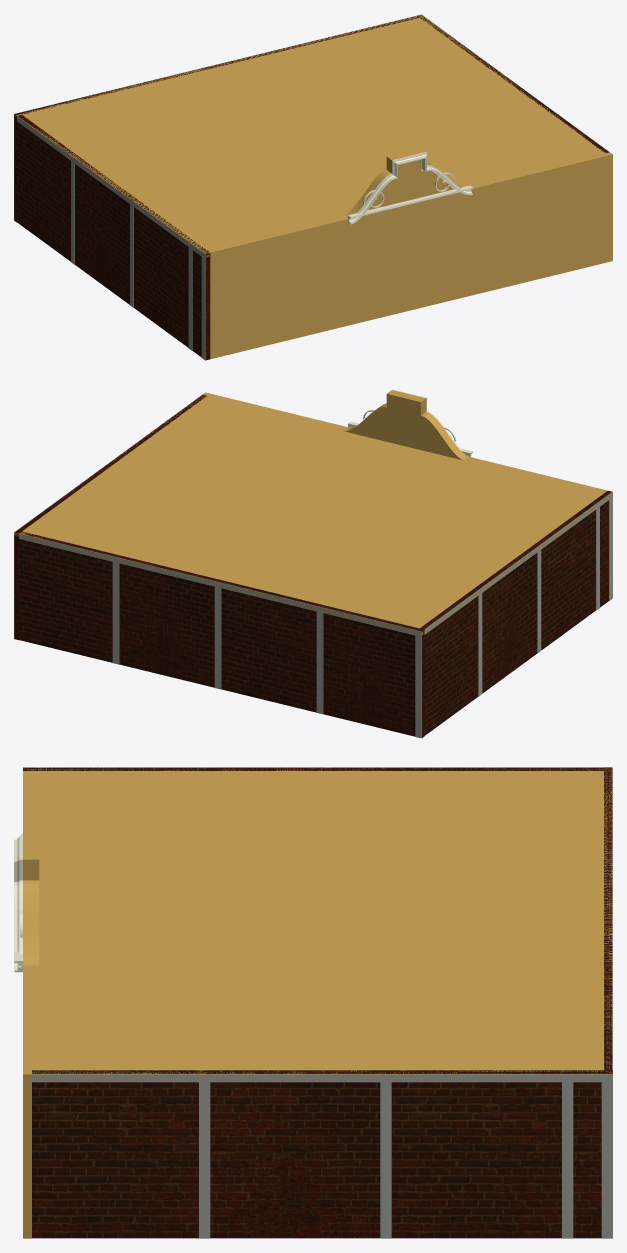
The model's file is building.glb.
The picture shows the model from 3 angles, top to bottom: view 1: azimuth 30°, elevation 25°; view 2: azimuth 150°, elevation 25°; view 3: azimuth 270°, elevation 25°; orthographic projection. The views are drawn at different scales.
Visible parts, largest first — view 1: roof/house:0/roof_slab#0001, house:0/edge0/z0/house:0/edge0/z0/wall_0_0, house:0/edge3/z0/house:0/edge3/z0/wall_0_0, crown/coronamiento/crown_body#0001, house:0/edge2/z0/house:0/edge2/z0/wall_0_0, house:0/edge3/z0/house:0/edge3/z0/beam_0_0, crown/coronamiento/crown_moulding#0001, house:0/edge1/z0/house:0/edge1/z0/wall_0_0, crown/coronamiento/crown_base_cornice#0001, house:0/edge3/z0/house:0/edge3/z0/column_1_0, house:0/edge3/z0/house:0/edge3/z0/column_4_0; view 2: roof/house:0/roof_slab#0001, house:0/edge2/z0/house:0/edge2/z0/wall_0_0, house:0/edge3/z0/house:0/edge3/z0/wall_0_0, crown/coronamiento/crown_body#0001, house:0/edge2/z0/house:0/edge2/z0/beam_0_0, house:0/edge1/z0/house:0/edge1/z0/wall_0_0, house:0/edge3/z0/house:0/edge3/z0/beam_0_0, house:0/edge0/z0/house:0/edge0/z0/wall_0_0, house:0/edge2/z0/house:0/edge2/z0/column_2_0, house:0/edge2/z0/house:0/edge2/z0/column_3_0, house:0/edge2/z0/house:0/edge2/z0/column_4_0, house:0/edge2/z0/house:0/edge2/z0/column_1_0 (+2 smaller); view 3: roof/house:0/roof_slab#0001, house:0/edge1/z0/house:0/edge1/z0/wall_0_0, house:0/edge1/z0/house:0/edge1/z0/beam_0_0, house:0/edge0/z0/house:0/edge0/z0/wall_0_0, house:0/edge2/z0/house:0/edge2/z0/wall_0_0, house:0/edge3/z0/house:0/edge3/z0/wall_0_0, crown/coronamiento/crown_body#0001, house:0/edge1/z0/house:0/edge1/z0/column_1_0, house:0/edge1/z0/house:0/edge1/z0/column_2_0, house:0/edge1/z0/house:0/edge1/z0/column_3_0, house:0/edge1/z0/house:0/edge1/z0/column_4_0, crown/coronamiento/crown_moulding#0001.
Part boxes in pixels (left/top/right/bottom): roof/house:0/roof_slab#0001: left=14, top=14, right=612, bottom=257; house:0/edge0/z0/house:0/edge0/z0/wall_0_0: left=208, top=152, right=612, bottom=359; house:0/edge3/z0/house:0/edge3/z0/wall_0_0: left=17, top=115, right=210, bottom=360; crown/coronamiento/crown_body#0001: left=343, top=148, right=465, bottom=218; house:0/edge2/z0/house:0/edge2/z0/wall_0_0: left=14, top=16, right=418, bottom=222; house:0/edge3/z0/house:0/edge3/z0/beam_0_0: left=17, top=116, right=205, bottom=259; crown/coronamiento/crown_moulding#0001: left=348, top=152, right=472, bottom=224; house:0/edge1/z0/house:0/edge1/z0/wall_0_0: left=417, top=14, right=608, bottom=153; crown/coronamiento/crown_base_cornice#0001: left=348, top=185, right=473, bottom=219; house:0/edge3/z0/house:0/edge3/z0/column_1_0: left=201, top=257, right=205, bottom=360; house:0/edge3/z0/house:0/edge3/z0/column_4_0: left=188, top=247, right=192, bottom=350; roof/house:0/roof_slab#0001: left=14, top=393, right=612, bottom=635; house:0/edge2/z0/house:0/edge2/z0/wall_0_0: left=19, top=531, right=424, bottom=737; house:0/edge3/z0/house:0/edge3/z0/wall_0_0: left=420, top=490, right=612, bottom=735; crown/coronamiento/crown_body#0001: left=343, top=390, right=468, bottom=460; house:0/edge2/z0/house:0/edge2/z0/beam_0_0: left=19, top=533, right=421, bottom=636; house:0/edge1/z0/house:0/edge1/z0/wall_0_0: left=14, top=394, right=206, bottom=639; house:0/edge3/z0/house:0/edge3/z0/beam_0_0: left=424, top=492, right=612, bottom=634; house:0/edge0/z0/house:0/edge0/z0/wall_0_0: left=202, top=392, right=607, bottom=492; house:0/edge2/z0/house:0/edge2/z0/column_2_0: left=112, top=562, right=119, bottom=664; house:0/edge2/z0/house:0/edge2/z0/column_3_0: left=214, top=587, right=221, bottom=689; house:0/edge2/z0/house:0/edge2/z0/column_4_0: left=316, top=611, right=323, bottom=714; house:0/edge2/z0/house:0/edge2/z0/column_1_0: left=415, top=635, right=421, bottom=738; roof/house:0/roof_slab#0001: left=23, top=767, right=612, bottom=1079; house:0/edge1/z0/house:0/edge1/z0/wall_0_0: left=32, top=1070, right=612, bottom=1238; house:0/edge1/z0/house:0/edge1/z0/beam_0_0: left=32, top=1074, right=612, bottom=1082; house:0/edge0/z0/house:0/edge0/z0/wall_0_0: left=23, top=771, right=31, bottom=1238; house:0/edge2/z0/house:0/edge2/z0/wall_0_0: left=604, top=767, right=612, bottom=1070; house:0/edge3/z0/house:0/edge3/z0/wall_0_0: left=23, top=767, right=603, bottom=770; crown/coronamiento/crown_body#0001: left=25, top=833, right=39, bottom=966; house:0/edge1/z0/house:0/edge1/z0/column_1_0: left=601, top=1082, right=612, bottom=1238; house:0/edge1/z0/house:0/edge1/z0/column_2_0: left=199, top=1082, right=210, bottom=1238; house:0/edge1/z0/house:0/edge1/z0/column_3_0: left=380, top=1082, right=391, bottom=1238; house:0/edge1/z0/house:0/edge1/z0/column_4_0: left=562, top=1082, right=573, bottom=1238; crown/coronamiento/crown_moulding#0001: left=14, top=833, right=22, bottom=972.
Bounding box in the file's own units: 16 × 5.8 × 13.2.
Materials: 4 (1 with a texture image).
